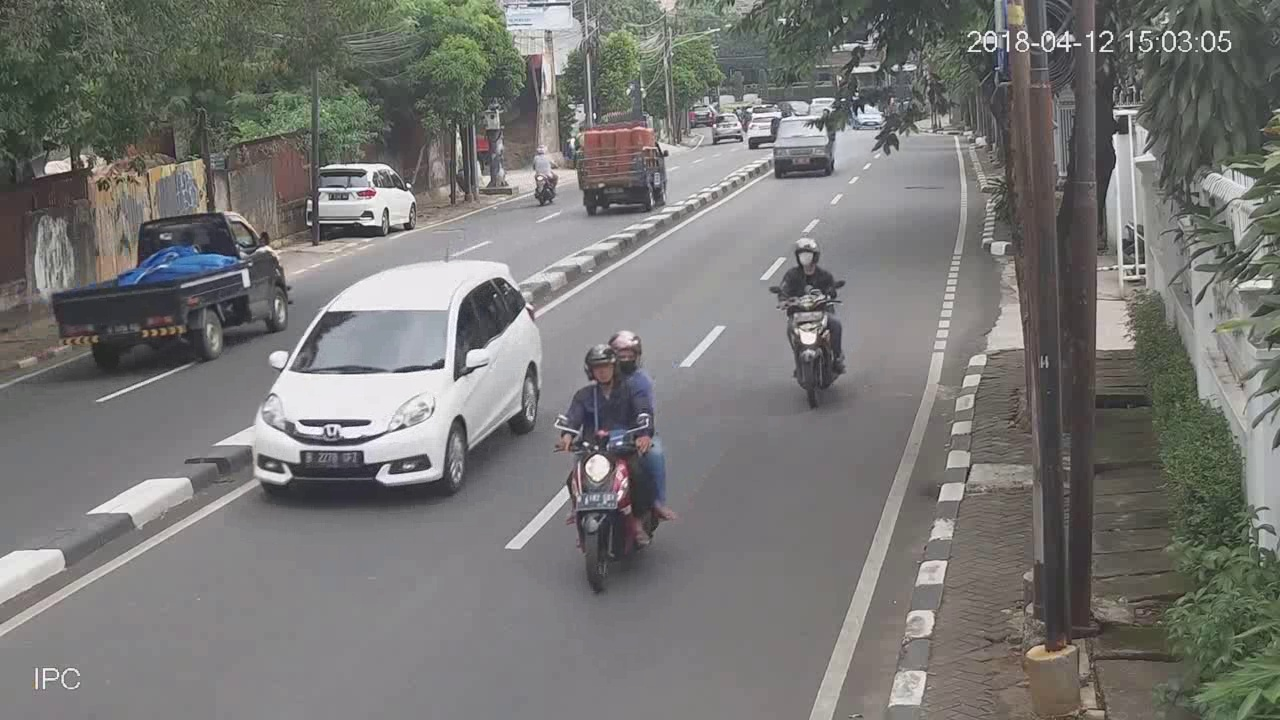car: (242, 261, 542, 497), (305, 157, 421, 236), (771, 110, 836, 181)
motorcycle: (553, 330, 680, 590), (769, 233, 851, 412), (530, 139, 560, 206)
truck: (50, 212, 294, 369), (579, 120, 669, 214)
